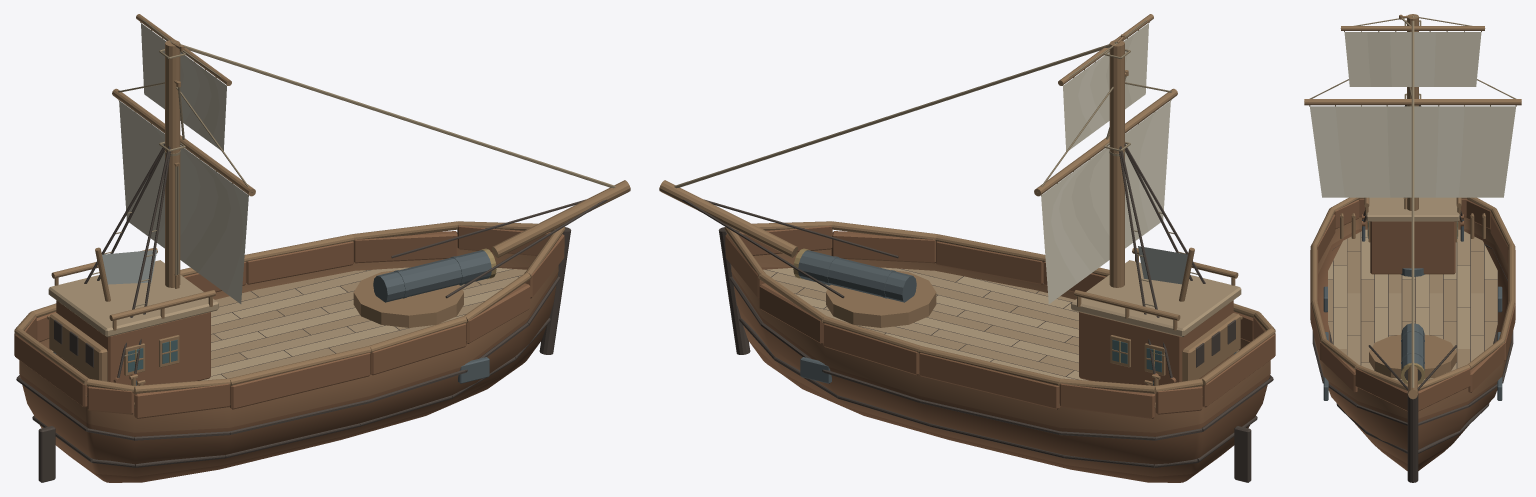
Rendered from warship.glb.
The picture shows the model from 3 angles, left to right: view 1: azimuth 30°, elevation 25°; view 2: azimuth 150°, elevation 25°; view 3: azimuth 270°, elevation 25°; orthographic projection. The views are drawn at different scales.
Parts seen in each view (by area): view 1: Hull, Sail_mast0_main, Gun, Sail_mast0_topsail, Rig_mast0, OwnerFlag; view 2: Hull, Sail_mast0_main, Gun, Sail_mast0_topsail, Rig_mast0, OwnerFlag; view 3: Hull, Sail_mast0_main, Sail_mast0_topsail, Gun, Rig_mast0.
Boxes of the visible parts, <box> form: Hull: <box>14,40,630,482</box>; Sail_mast0_main: <box>119,100,248,303</box>; Gun: <box>353,248,496,327</box>; Sail_mast0_topsail: <box>141,23,226,150</box>; Rig_mast0: <box>112,14,255,196</box>; OwnerFlag: <box>102,250,156,284</box>; Hull: <box>659,40,1275,482</box>; Sail_mast0_main: <box>1041,100,1170,303</box>; Gun: <box>793,248,936,327</box>; Sail_mast0_topsail: <box>1063,23,1148,150</box>; Rig_mast0: <box>1034,14,1177,196</box>; OwnerFlag: <box>1138,246,1187,284</box>; Hull: <box>1310,14,1515,482</box>; Sail_mast0_main: <box>1310,106,1515,197</box>; Sail_mast0_topsail: <box>1344,32,1481,86</box>; Gun: <box>1369,323,1456,384</box>; Rig_mast0: <box>1304,14,1521,106</box>.
Size of the model in its own units: 197 by 131 by 79.43.
